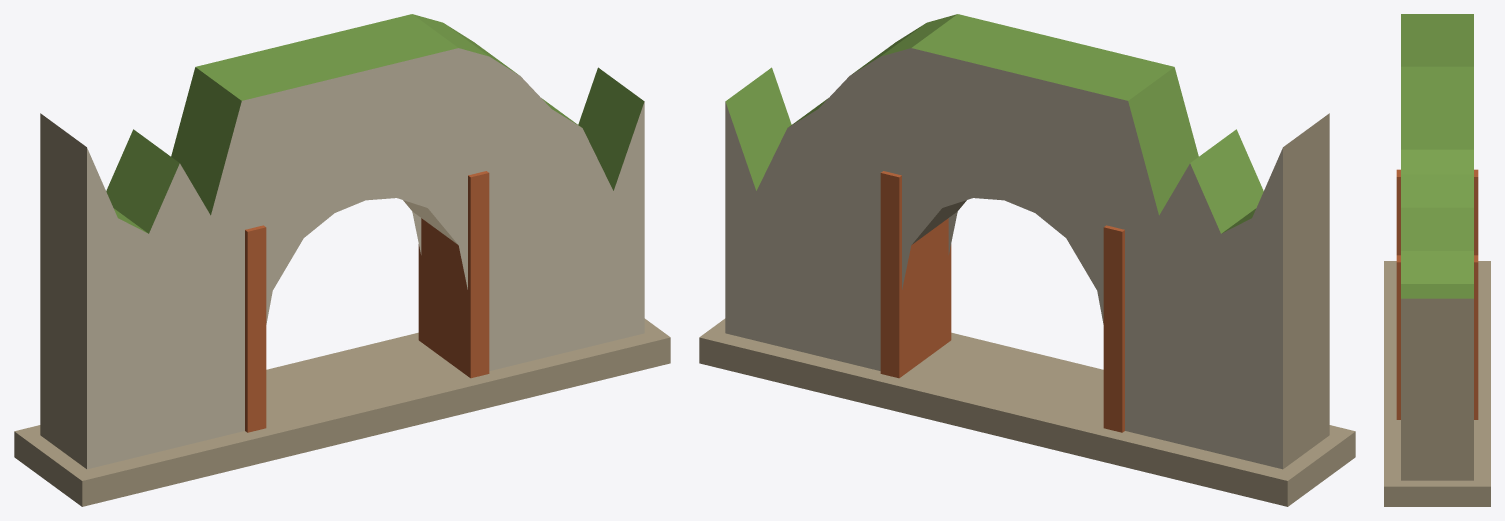
File: ruin_wall.glb
3 views of the same model, side by side, from view 1: azimuth 30°, elevation 25°; view 2: azimuth 150°, elevation 25°; view 3: azimuth 270°, elevation 25° (orthographic). The views are drawn at different scales.
Parts seen in each view (by area): view 1: ruin_wall; view 2: ruin_wall; view 3: ruin_wall.
Part boxes in pixels (box(x1,y1,x2,y2)): ruin_wall: box(14, 14, 670, 506); ruin_wall: box(699, 14, 1355, 506); ruin_wall: box(1384, 14, 1490, 506).
Bounding box in the file's own units: 19 × 11 × 3.8.
